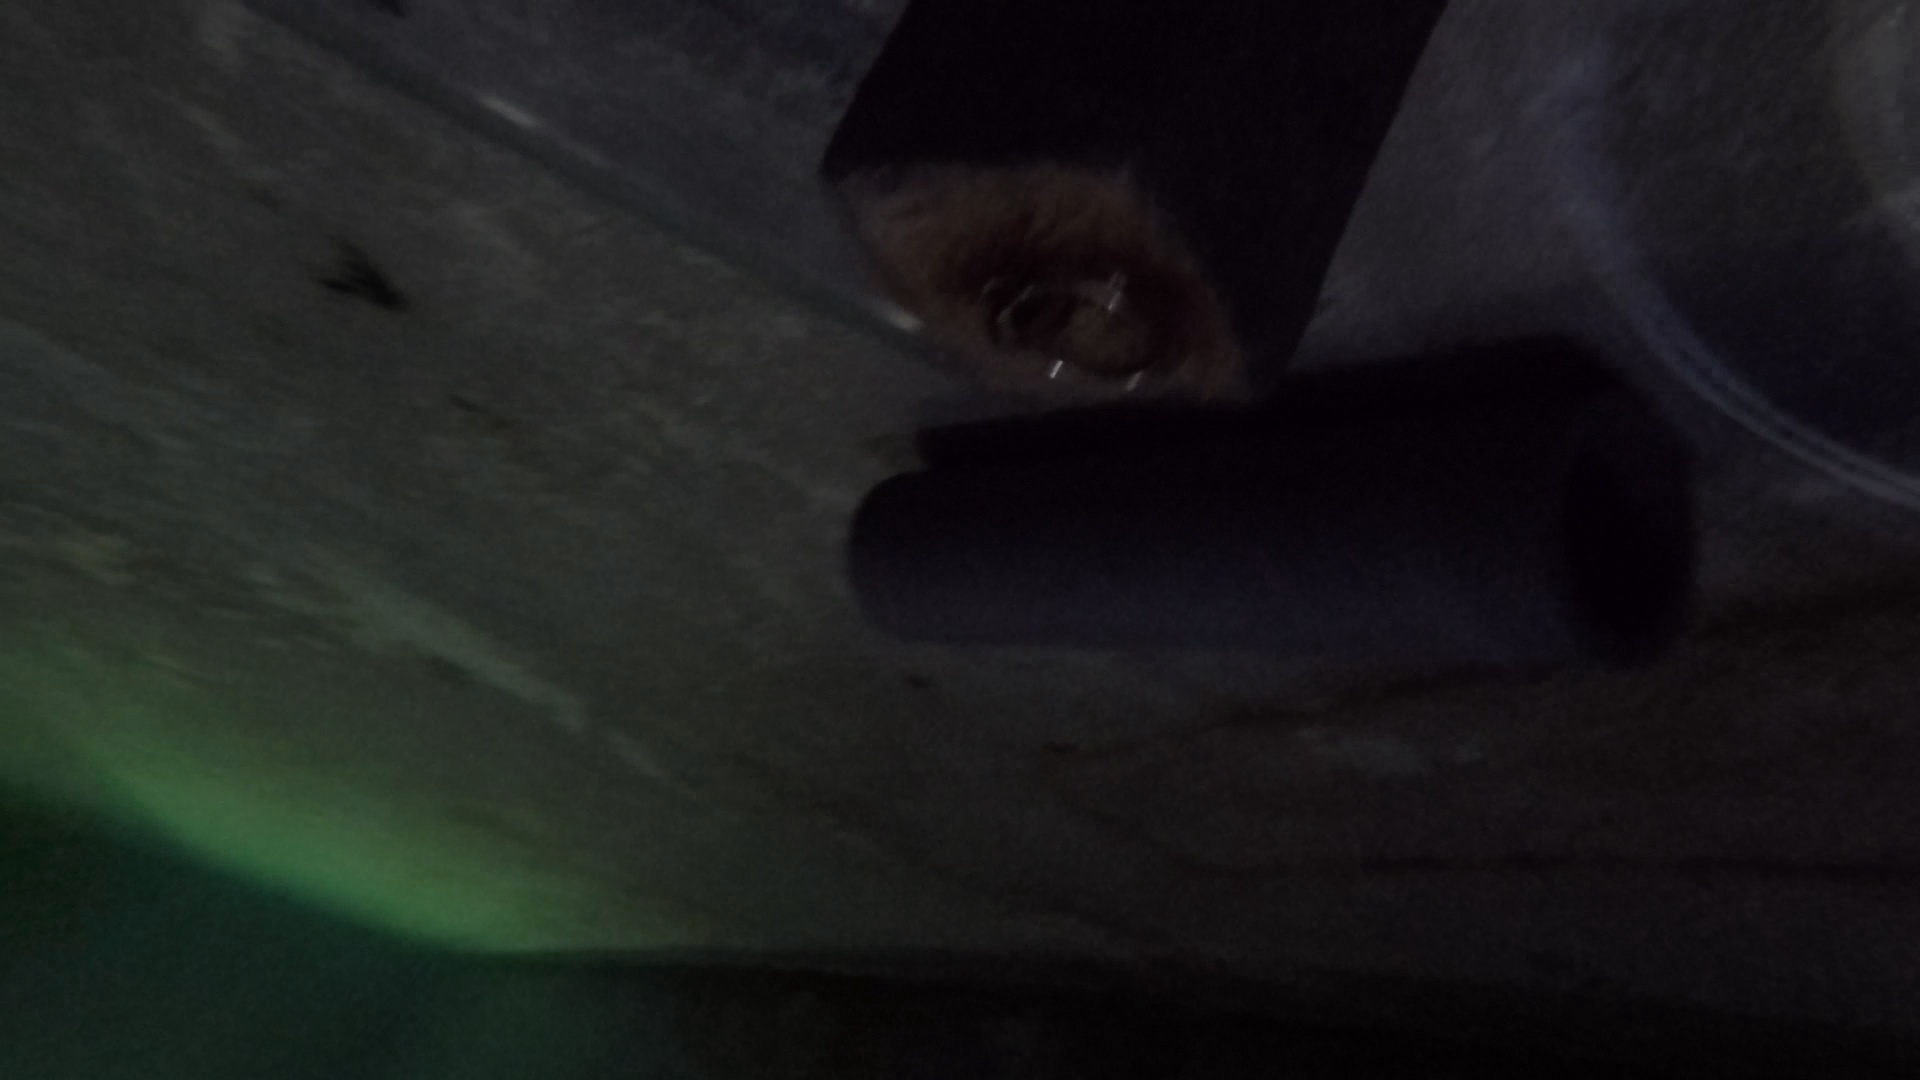led_block: (822, 1, 1447, 429)
pipe: (845, 398, 1700, 675)
